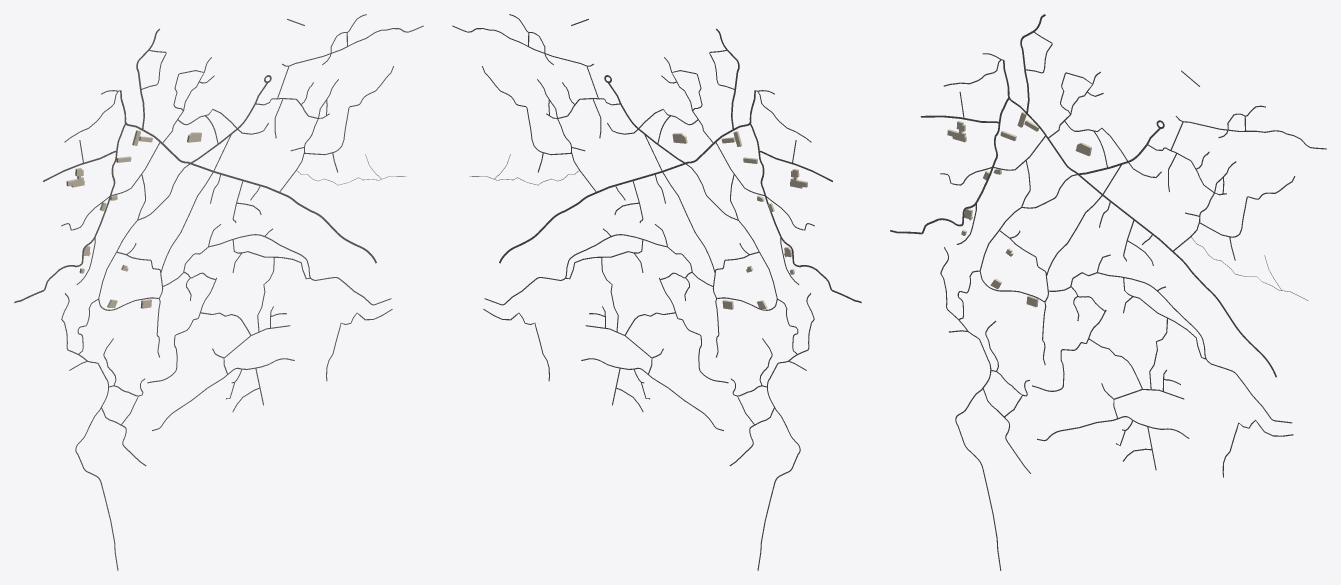
Rendered from historic-palestine-10_30_3523_3248.glb.
3 renders of one model, left to right at view 1: azimuth 30°, elevation 25°; view 2: azimuth 150°, elevation 25°; view 3: azimuth 330°, elevation 25°, orthographic. The views are drawn at different scales.
Parts seen in each view (by area): view 1: Road .033, Road .076; view 2: Road .033, Road .076; view 3: Road .033, Road .076, Road .040.
Boxes of the visible parts, <box> form: Road .033: <box>61,293,118,570</box>; Road .076: <box>185,161,376,263</box>; Road .033: <box>757,293,814,570</box>; Road .076: <box>499,161,690,263</box>; Road .033: <box>940,247,1001,570</box>; Road .076: <box>1072,170,1276,377</box>; Road .040: <box>890,97,1008,234</box>.
Size of the model in its own units: 1271 by 1579 by 8.7.
